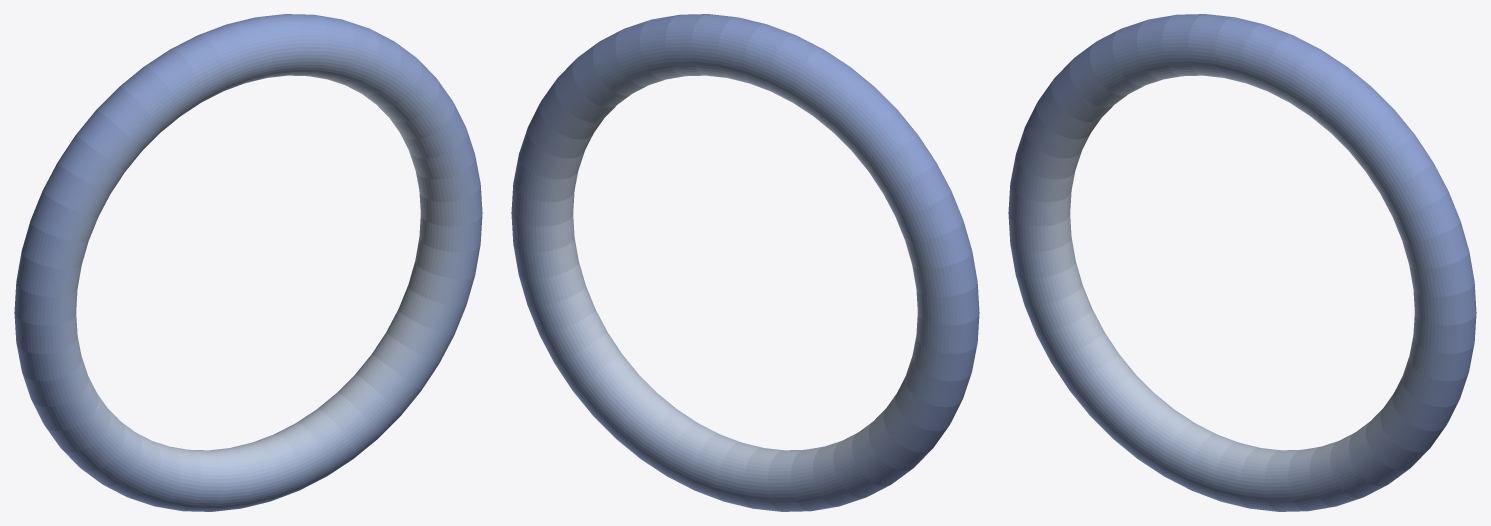
3 renders of one model, left to right at view 1: azimuth 30°, elevation 25°; view 2: azimuth 150°, elevation 25°; view 3: azimuth 330°, elevation 25°, orthographic.
Visible parts, largest first — view 1: world; view 2: world; view 3: world.
Part boxes in pixels (<box>): world: <box>14,14,482,511</box>; world: <box>511,14,979,511</box>; world: <box>1008,14,1476,511</box>.
Size of the model in its own units: 28.67 by 28.61 by 3.33.
